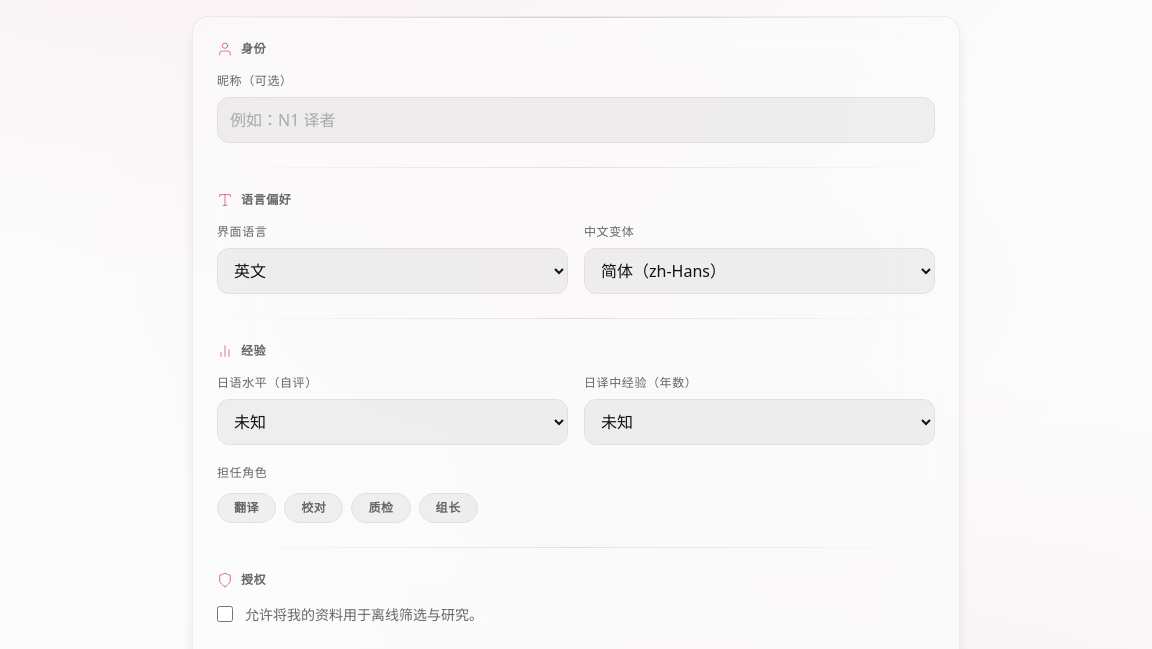
it: OnboardingRoute › submits payload preserving exact domain values under Chinese locale
This screenshot has width=1152, height=649.
Select "繁体（zh-Hant）" in the dropdown labelled "中文变体" at (760, 271), box x1=584 y1=248 x2=935 y2=294
(page scrolled)
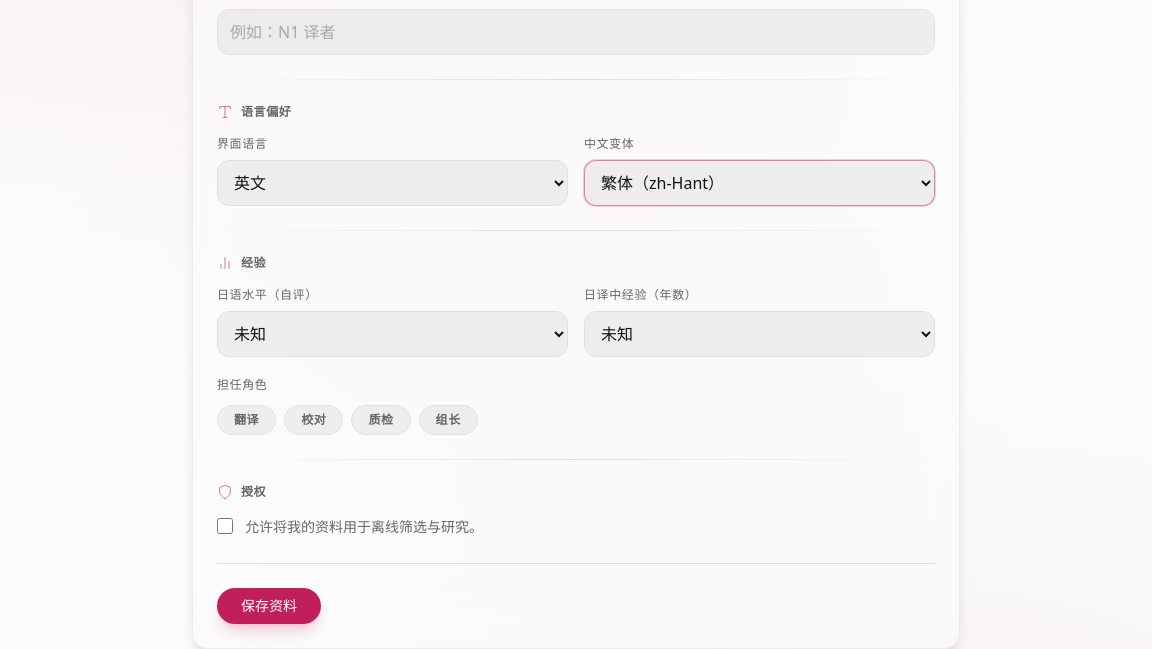
Click the button "保存资料".
click(269, 606)  # box x1=217 y1=588 x2=321 y2=624
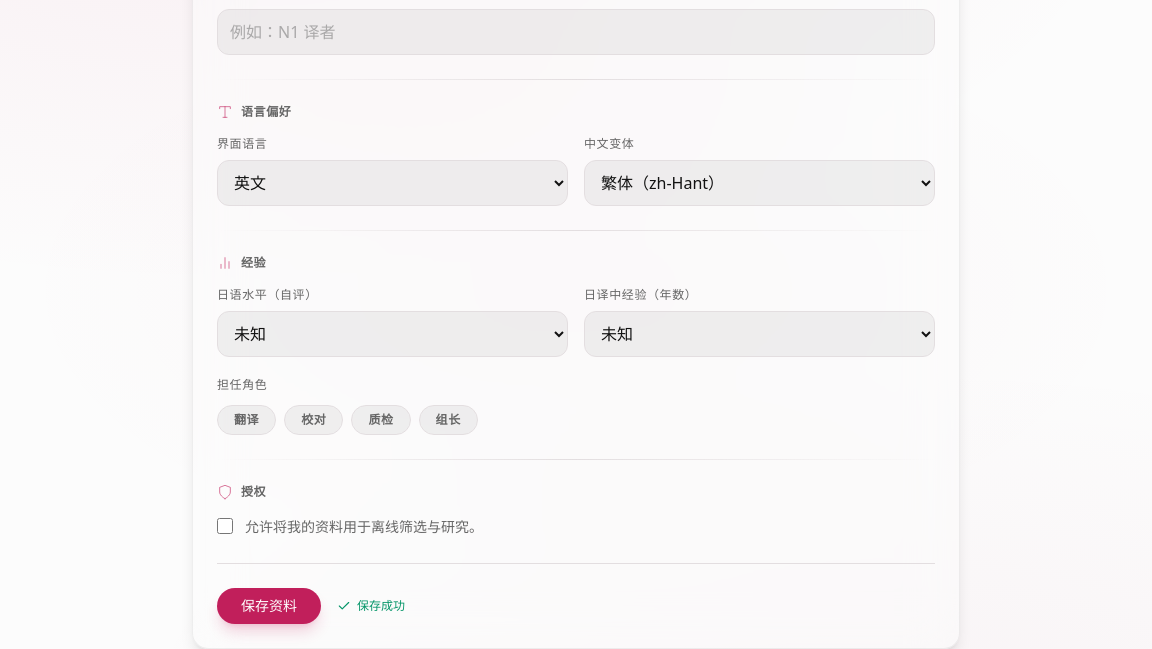
Check: the text "保存成功" is shown, box x1=337 y1=598 x2=405 y2=614
